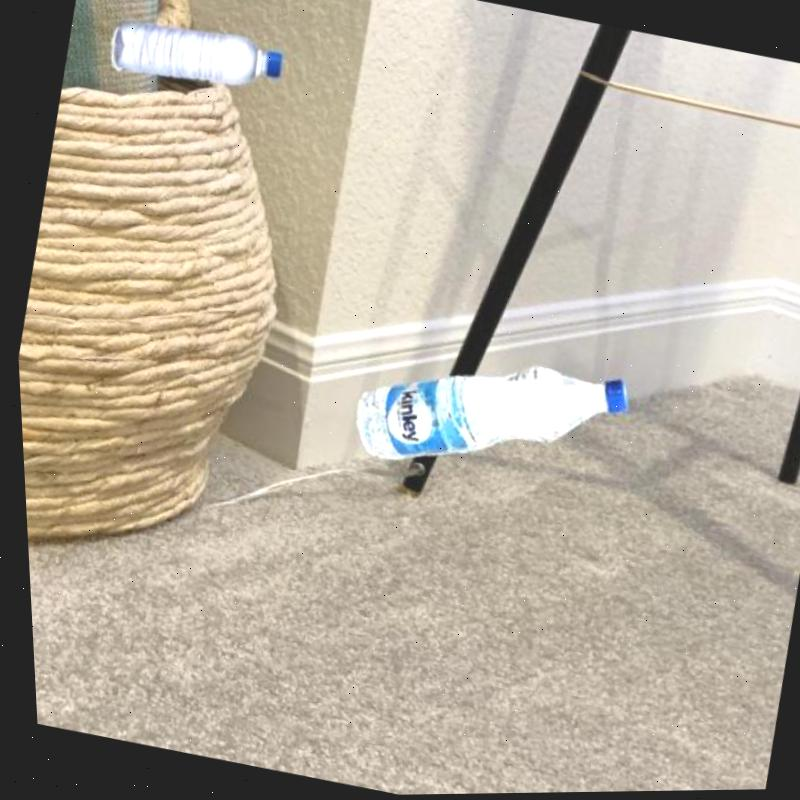botella: (343, 329, 634, 515), (103, 11, 291, 98)
